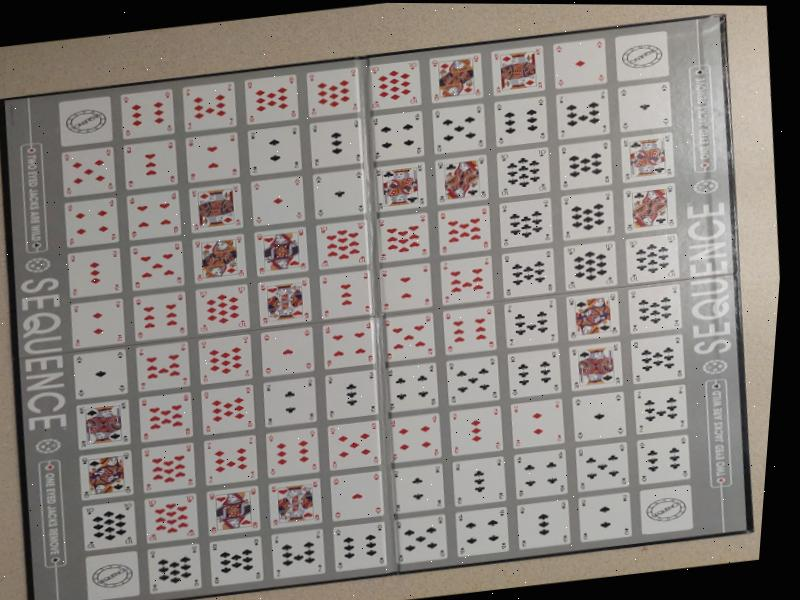Board: (0, 2, 799, 600)
